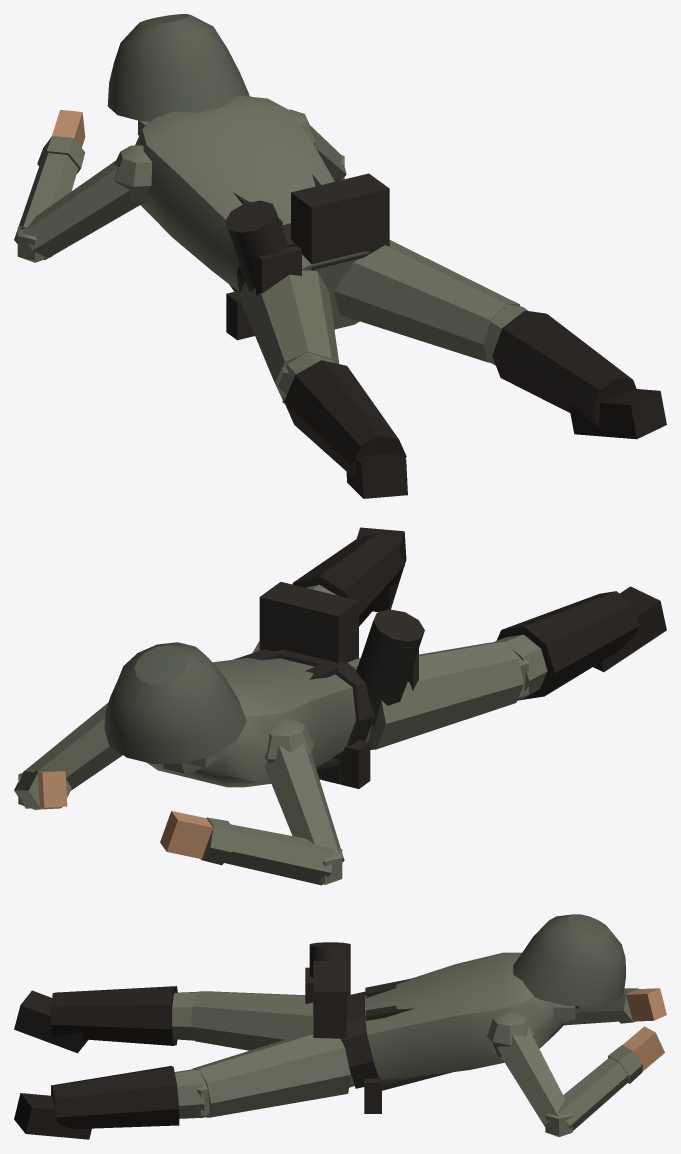
File: soldier_de_prone_mg.glb
3 renders of one model, top to bottom at view 1: azimuth 30°, elevation 25°; view 2: azimuth 150°, elevation 25°; view 3: azimuth 270°, elevation 25°, orthographic. The views are drawn at different scales.
Visible parts, largest first — view 1: soldier_de_prone_mg; view 2: soldier_de_prone_mg; view 3: soldier_de_prone_mg.
Part boxes in pixels (x1,y1,x2,y2): soldier_de_prone_mg: (14, 14, 666, 498); soldier_de_prone_mg: (14, 527, 666, 885); soldier_de_prone_mg: (14, 914, 666, 1139).
Size of the model in its own units: 0.8116 by 0.5076 by 1.76.
